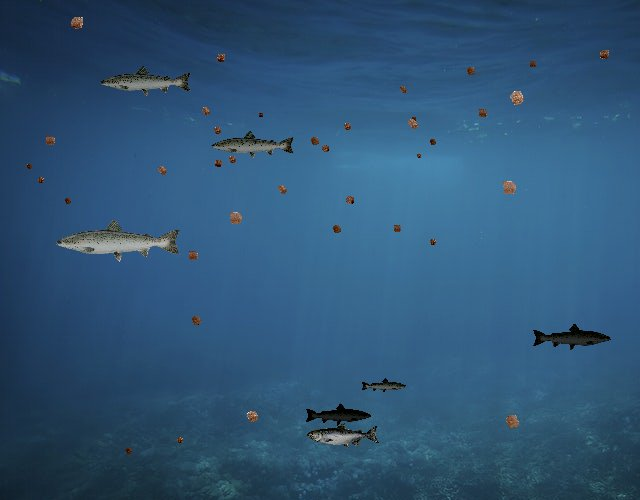Fish: (54, 217, 183, 263), (99, 64, 193, 98), (210, 129, 296, 160), (532, 322, 613, 351), (308, 423, 381, 449), (304, 402, 372, 426), (361, 378, 408, 395)
Pellet: (240, 404, 265, 429), (461, 62, 480, 81), (339, 118, 356, 135), (172, 433, 187, 448), (122, 444, 136, 458), (426, 235, 440, 249), (34, 173, 48, 187)
